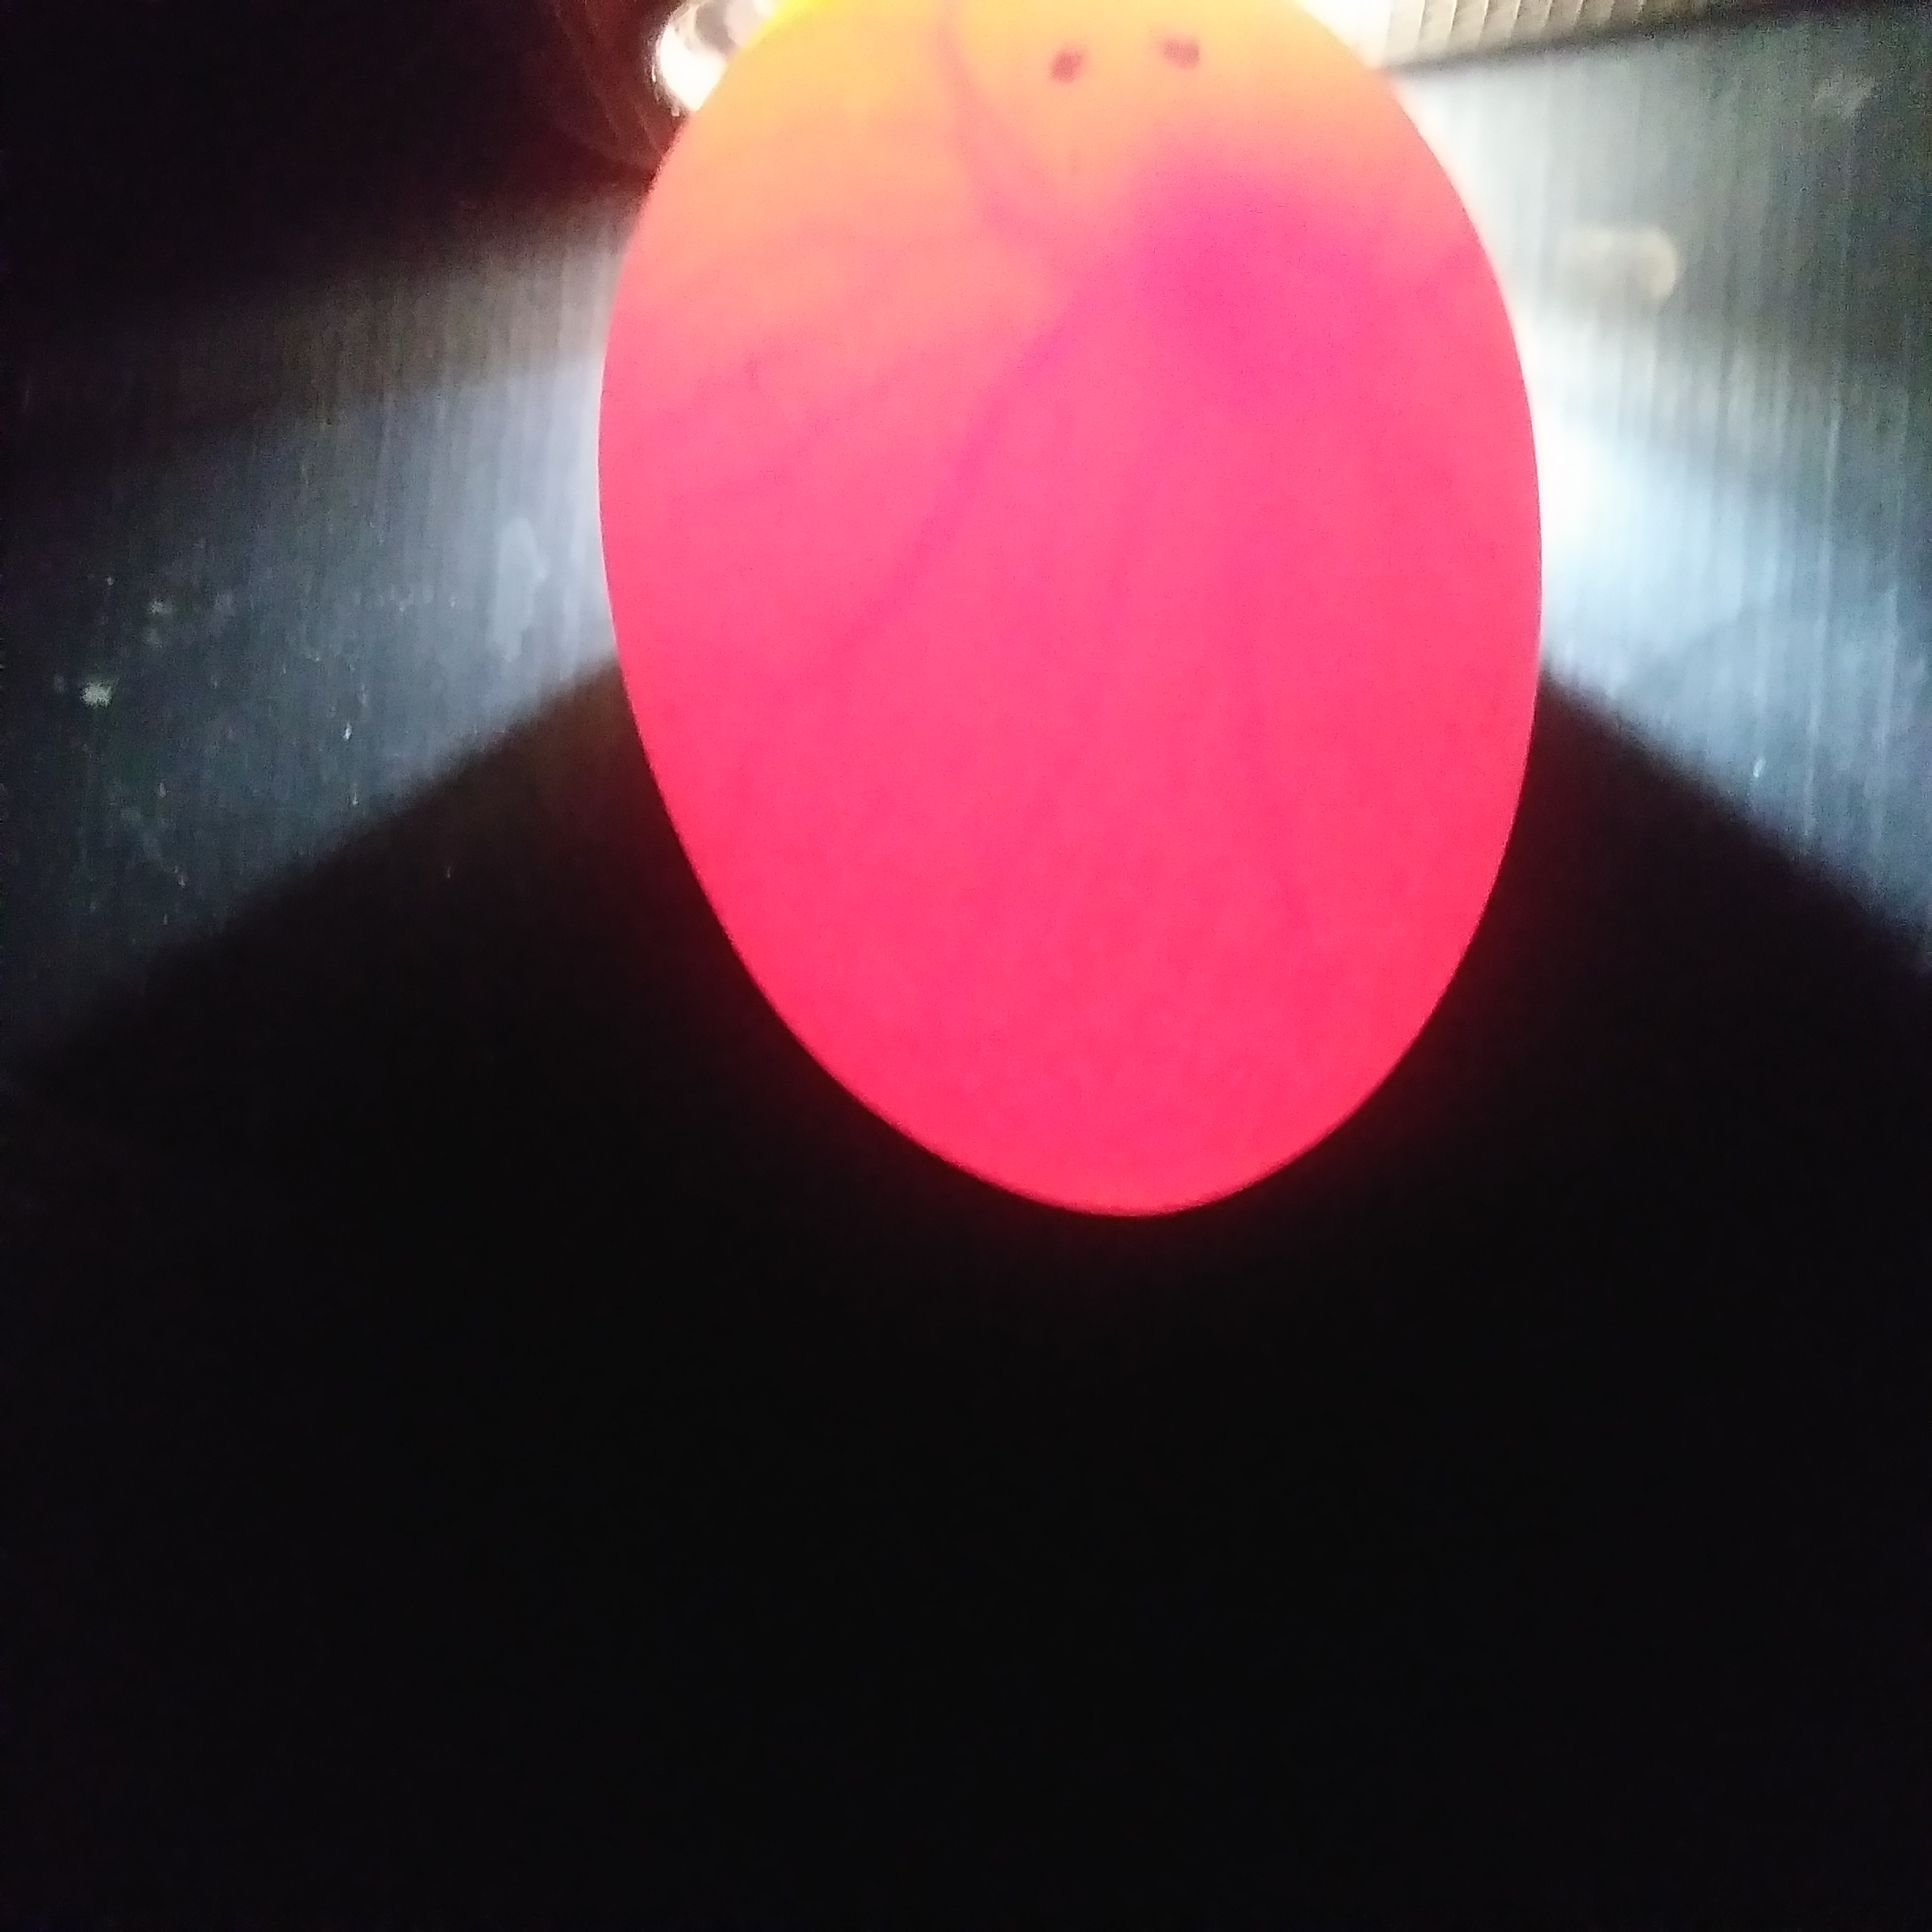bloodcell: (771, 150, 1099, 1008), (1127, 456, 1419, 964)
embryo: (1113, 145, 1315, 396)
